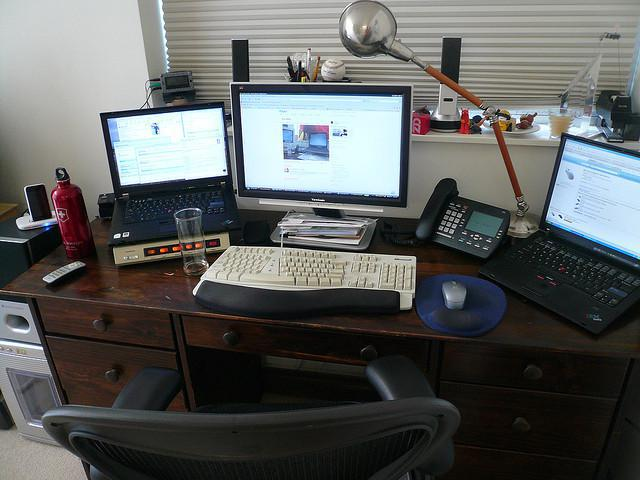phone: (19, 178, 54, 223)
tv: (224, 73, 415, 224), (93, 91, 235, 194), (541, 124, 637, 272)
